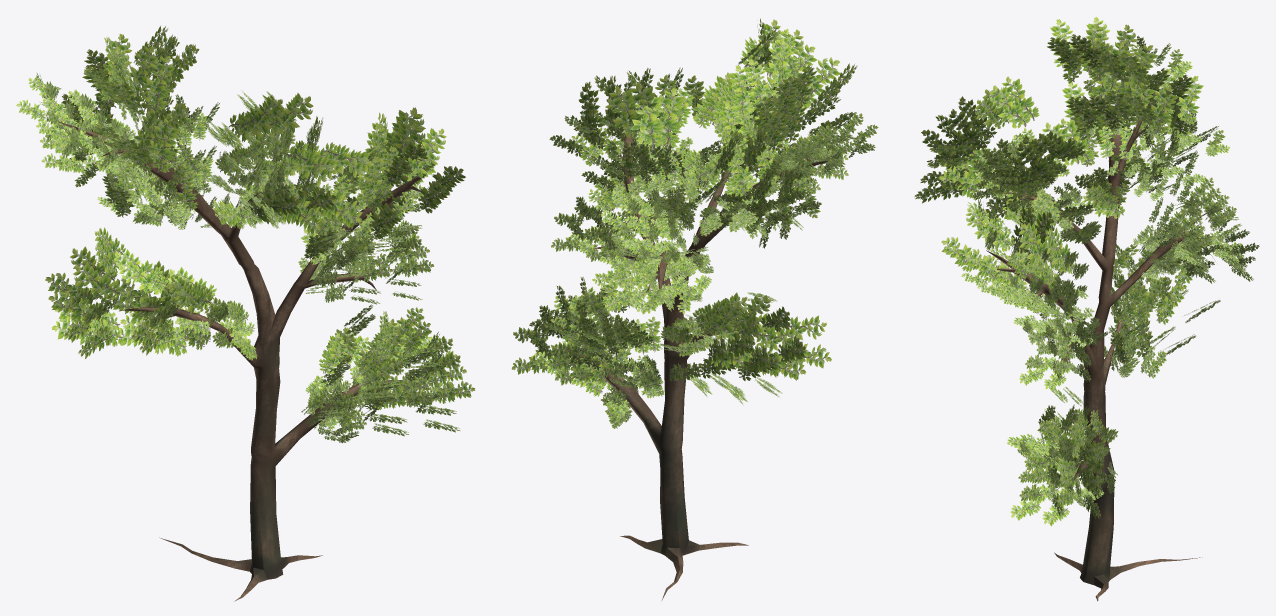
The model's file is mdl_tree.fbx.
The picture shows the model from 3 angles, left to right: view 1: azimuth 30°, elevation 25°; view 2: azimuth 150°, elevation 25°; view 3: azimuth 270°, elevation 25°; orthographic projection. The views are drawn at different scales.
Visible parts, largest first — view 1: mdl_tree_reaf, mdl_tree; view 2: mdl_tree_reaf, mdl_tree; view 3: mdl_tree_reaf, mdl_tree.
Part boxes in pixels (x1,y1,x2,y2): mdl_tree_reaf: (16,26,475,443); mdl_tree: (58,90,425,601); mdl_tree_reaf: (511,18,878,428); mdl_tree: (562,108,827,600); mdl_tree_reaf: (914,17,1259,526); mdl_tree: (986,95,1220,601).
Bounding box in the file's own units: 1957 × 2644 × 1651.
